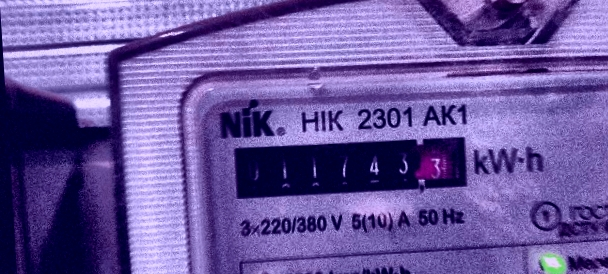0: (245, 154, 261, 183)
1: (306, 151, 320, 179), (277, 153, 289, 180)
3: (395, 148, 411, 176), (427, 155, 442, 181)
4: (365, 150, 381, 178)
7: (335, 149, 352, 178)
screen: (222, 122, 479, 212)
